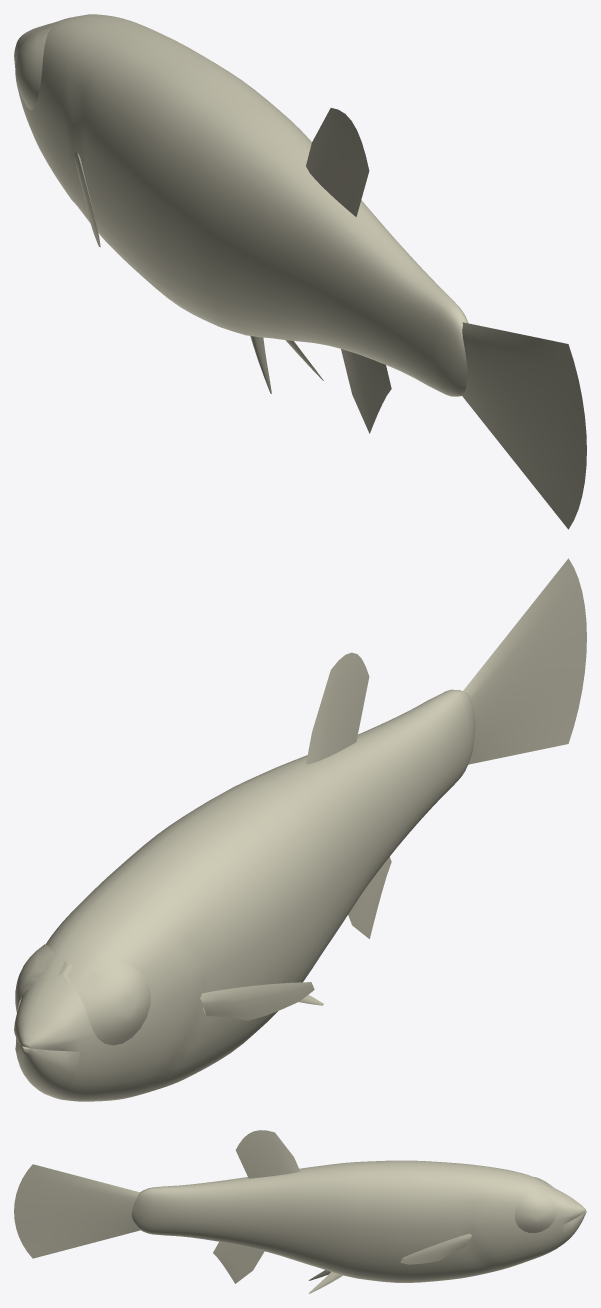
The model's file is guppy_female.glb.
3 renders of one model, top to bottom at view 1: azimuth 30°, elevation 25°; view 2: azimuth 150°, elevation 25°; view 3: azimuth 270°, elevation 25°, orthographic. The views are drawn at different scales.
Visible parts, largest first — view 1: guppy_female; view 2: guppy_female; view 3: guppy_female.
Part boxes in pixels (x1,y1,x2,y2): guppy_female: (14, 14, 586, 529); guppy_female: (14, 558, 586, 1101); guppy_female: (14, 1130, 586, 1293).
Bounding box in the file's own units: 0.00991 × 0.0137 × 0.0451.
